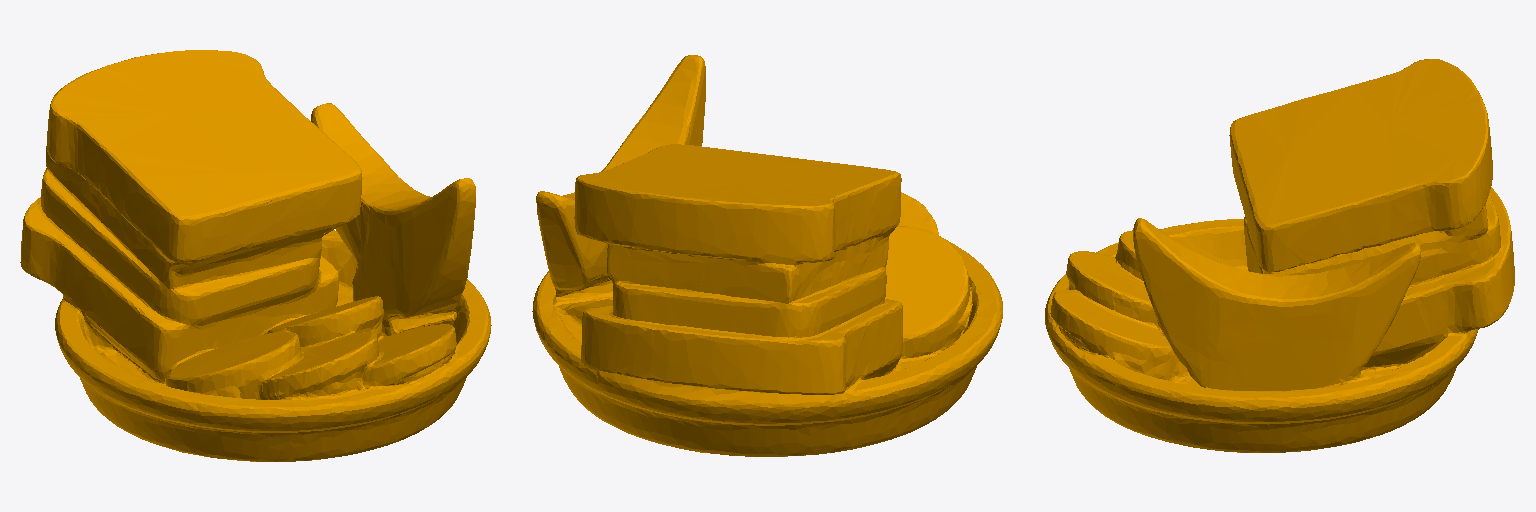
robot.urdf — 2e5nsrxv:
<?xml version='1.0'?>

<robot name="2e5nsrxv">
    <static>false</static>
    <link name="link">
        <inertial>
            <mass value="0.14912044252882628"/>
            <inertia ixx="0.00017505701244201083" ixy="1.6444875827598726e-05" ixz="5.9731681812872e-06"
                     iyy="0.00014189345776349297" iyz="-3.472189354663872e-05" izz="0.00020987980295322878"/>
        </inertial>
        <collision name="collision">
            <geometry>
                <mesh filename="package://miscnet/train/2e5nsrxv/collision_model_vhacd.obj"/>
            </geometry>
        </collision>
        <visual name="visual">
            <geometry>
                <mesh filename="package://miscnet/train/2e5nsrxv/visual_model.obj"/>
            </geometry>
        </visual>
    </link>
</robot>

--- Render facts (derived) ---
Views: 3 orthographic renders of the robot side by side, from view 1: azimuth 30°, elevation 25°; view 2: azimuth 150°, elevation 25°; view 3: azimuth 270°, elevation 25°.
Robot: 2e5nsrxv — 1 links, 0 joints (none); root link link; default pose: all joints at 0.
Links seen in each view (by area): view 1: link; view 2: link; view 3: link.
Boxes of the visible links, x1,y1,x2,y2 form: link: (20, 50, 491, 461); link: (532, 55, 1002, 456); link: (1045, 59, 1514, 452).
Size in the robot's own frame: 0.1154 by 0.1246 by 0.0744 metres.
Meshes: 1 distinct files referenced, 1 mesh visuals loaded (1 OBJ).
